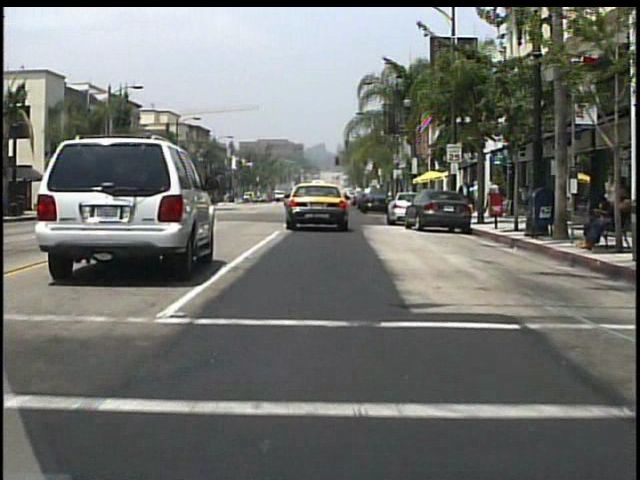person: (576, 195, 620, 253), (600, 175, 617, 239), (457, 180, 473, 219), (491, 183, 504, 219), (473, 179, 485, 217), (484, 184, 497, 217)
